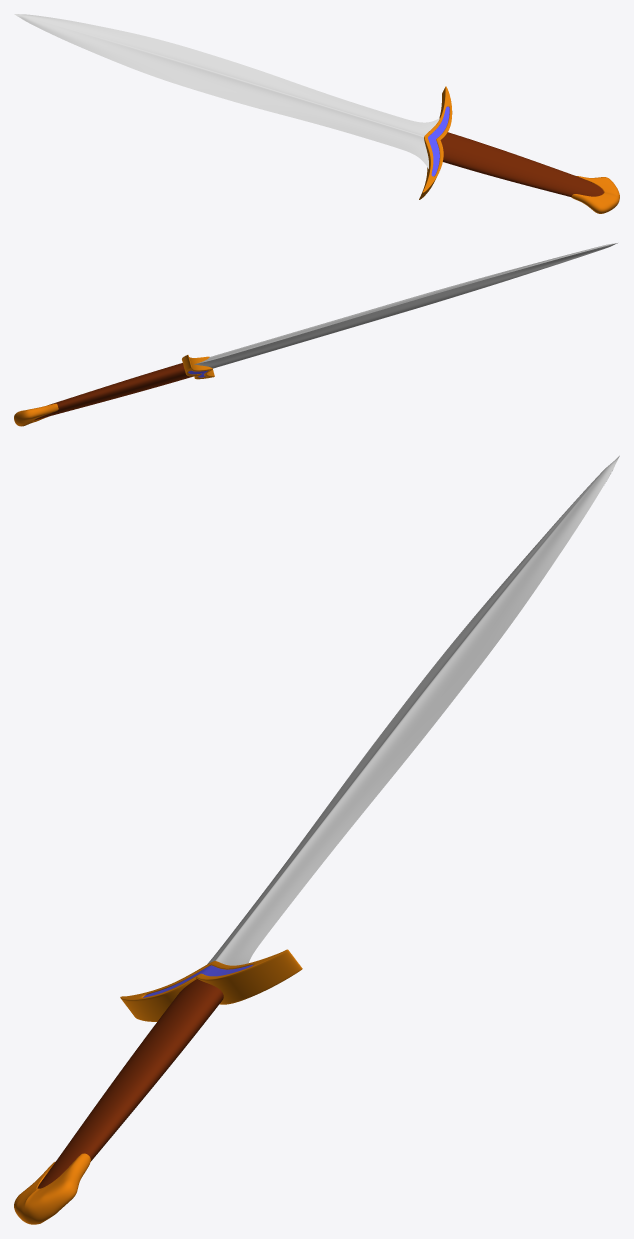
Rendered from low_poly_sword.glb.
3 renders of one model, top to bottom at view 1: azimuth 30°, elevation 25°; view 2: azimuth 210°, elevation 25°; view 3: azimuth 270°, elevation 25°, orthographic. The views are drawn at different scales.
Parts seen in each view (by area): view 1: Lame_5, Manche_8, Garde_3, Pommeau.001_7, Garde.001_4; view 2: Lame_5, Manche_8, Pommeau.001_7, Garde_3; view 3: Lame_5, Manche_8, Garde_3, Pommeau.001_7.
Part boxes in pixels (x1,y1,x2,y2): Lame_5: [14, 14, 439, 168]; Manche_8: [440, 132, 603, 196]; Garde_3: [419, 86, 452, 199]; Pommeau.001_7: [571, 176, 619, 213]; Garde.001_4: [428, 106, 449, 176]; Lame_5: [194, 243, 617, 368]; Manche_8: [33, 363, 193, 420]; Pommeau.001_7: [14, 403, 58, 426]; Garde_3: [182, 355, 214, 379]; Lame_5: [207, 455, 619, 965]; Manche_8: [37, 979, 223, 1188]; Garde_3: [120, 949, 302, 1021]; Pommeau.001_7: [14, 1153, 90, 1224].
Size of the model in its own units: 19.16 by 7.67 by 11.71.
